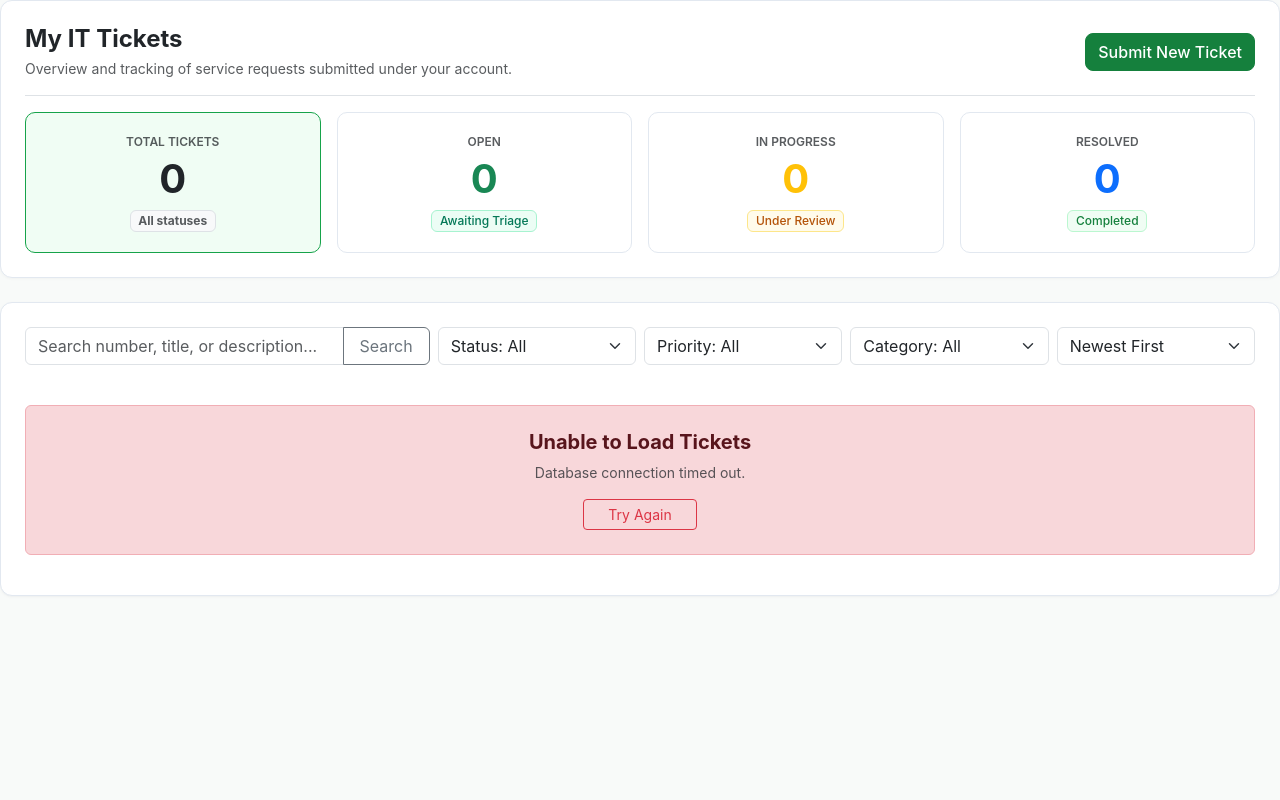
it: Lab 2 — MyTicketsScreen Component › renders API Error State when fetch fails and provides a retry mechanism
The image size is (1280, 800).
Expected: the element with test id "error-state" is shown, x1=25 y1=405 x2=1255 y2=555
Expected: the heading "Unable to Load Tickets" is shown, x1=529 y1=430 x2=751 y2=454
Click the button with test id "retry-btn" at (640, 514), box x1=583 y1=499 x2=697 y2=530
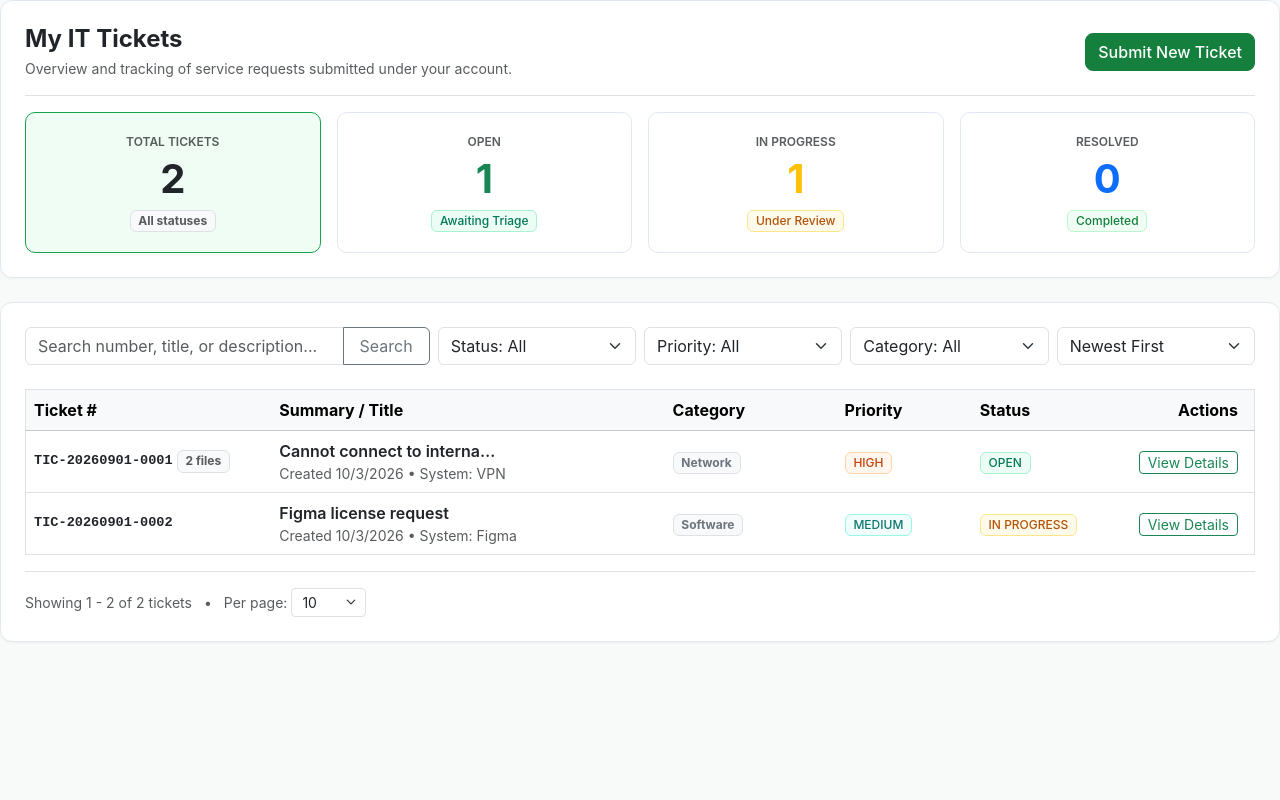
Now the table with test id "tickets-table" is shown, box x1=25 y1=389 x2=1255 y2=555
